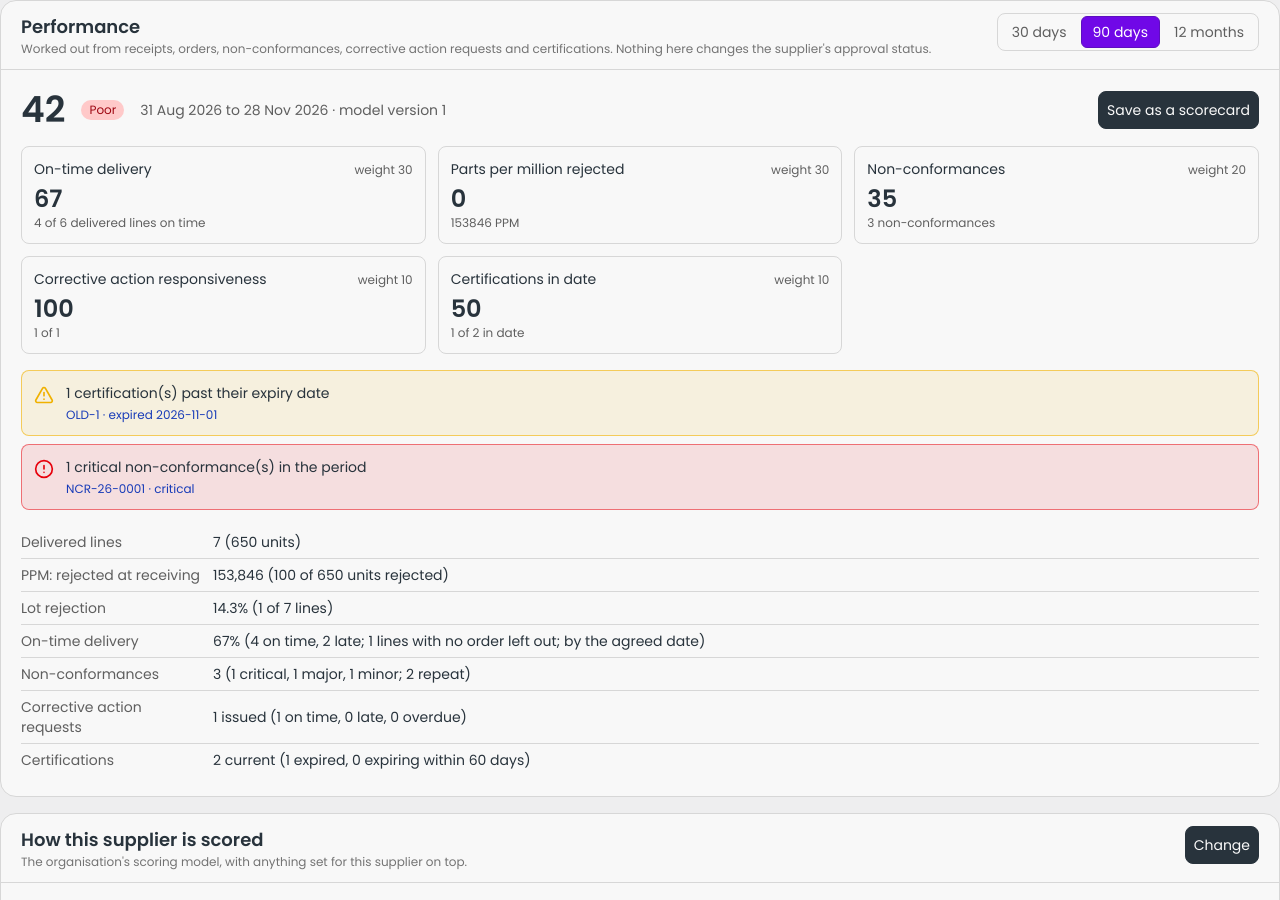
Test: scoring settings › refuses grace days over 60 and offers no change to someone without the configure permission
This screenshot has width=1280, height=900.
Click the button "Change" at [1222, 845], box 1185,826 -> 1259,864
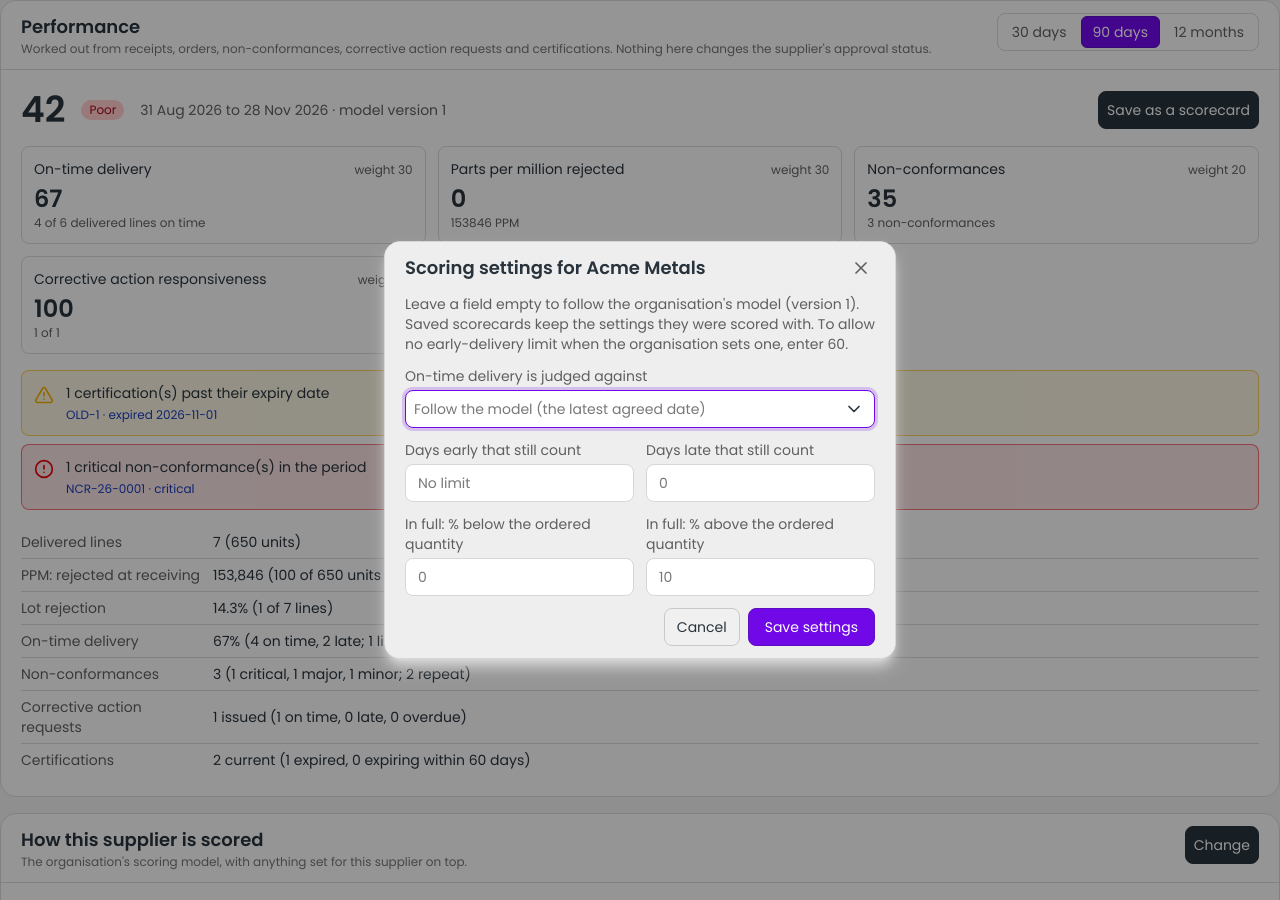
Type "61" into the number field labelled "Days late that still count" at [760, 483], box 646,464 -> 875,502
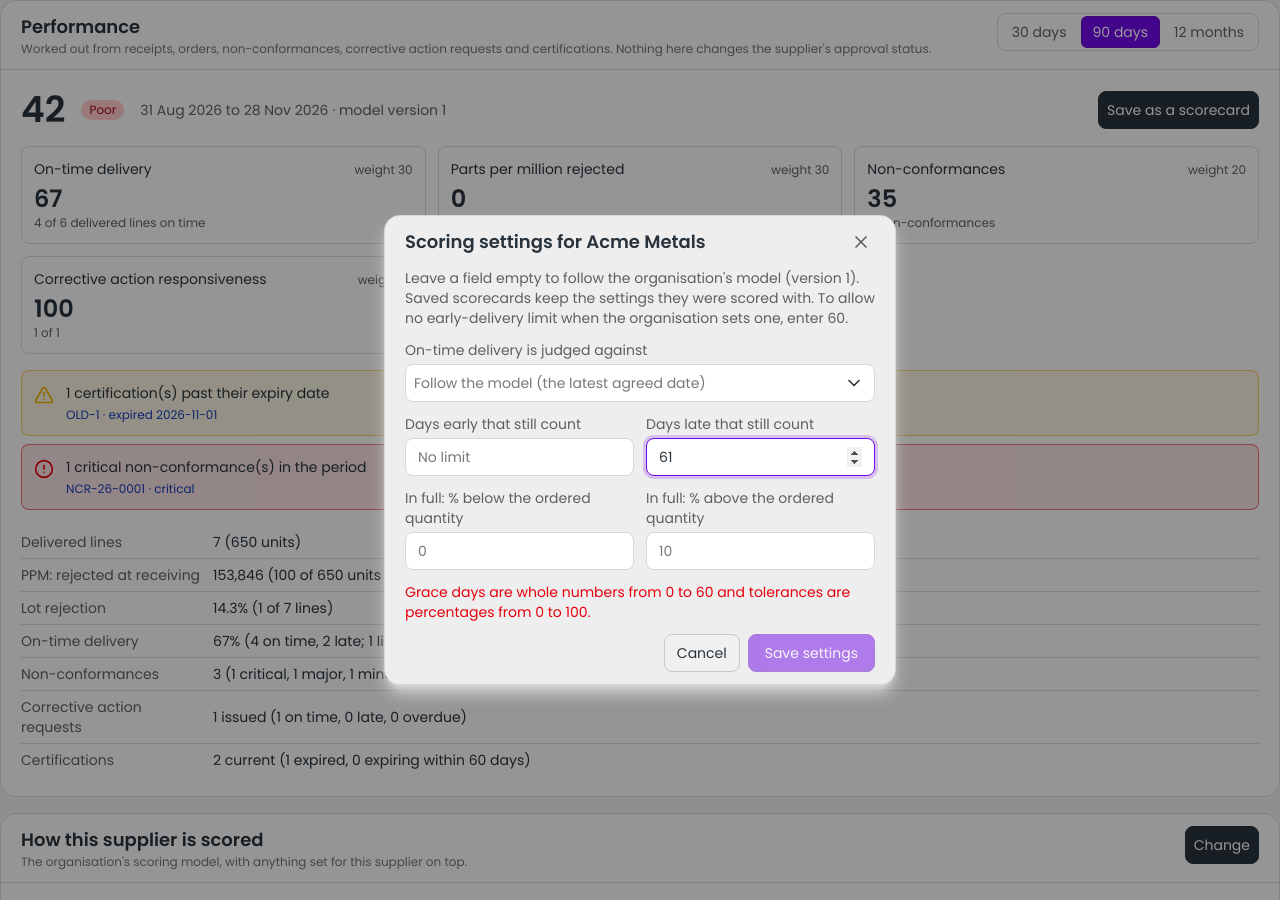
Now the button "Save settings" is disabled, box 748,634 -> 875,672
Now the message shows "whole numbers from 0 to 60", box 405,582 -> 850,622
